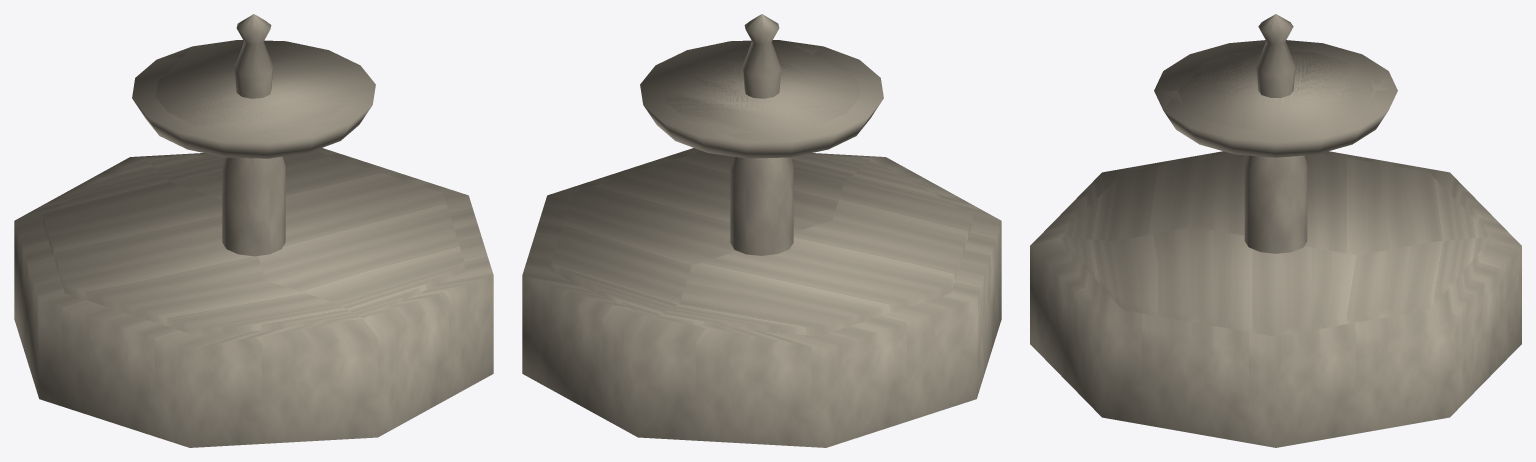
Rendered from Fountain_Basin_1.gltf.
3 renders of one model, left to right at view 1: azimuth 30°, elevation 25°; view 2: azimuth 150°, elevation 25°; view 3: azimuth 270°, elevation 25°, orthographic.
Parts seen in each view (by area): view 1: Fountain_Basin_1; view 2: Fountain_Basin_1; view 3: Fountain_Basin_1.
Boxes of the visible parts, left/top/right/bottom form: Fountain_Basin_1: left=14, top=14, right=493, bottom=447; Fountain_Basin_1: left=522, top=14, right=1001, bottom=447; Fountain_Basin_1: left=1030, top=14, right=1521, bottom=447.
Size of the model in its own units: 2.5 by 1.85 by 2.5.
1 material, 1 textured.
